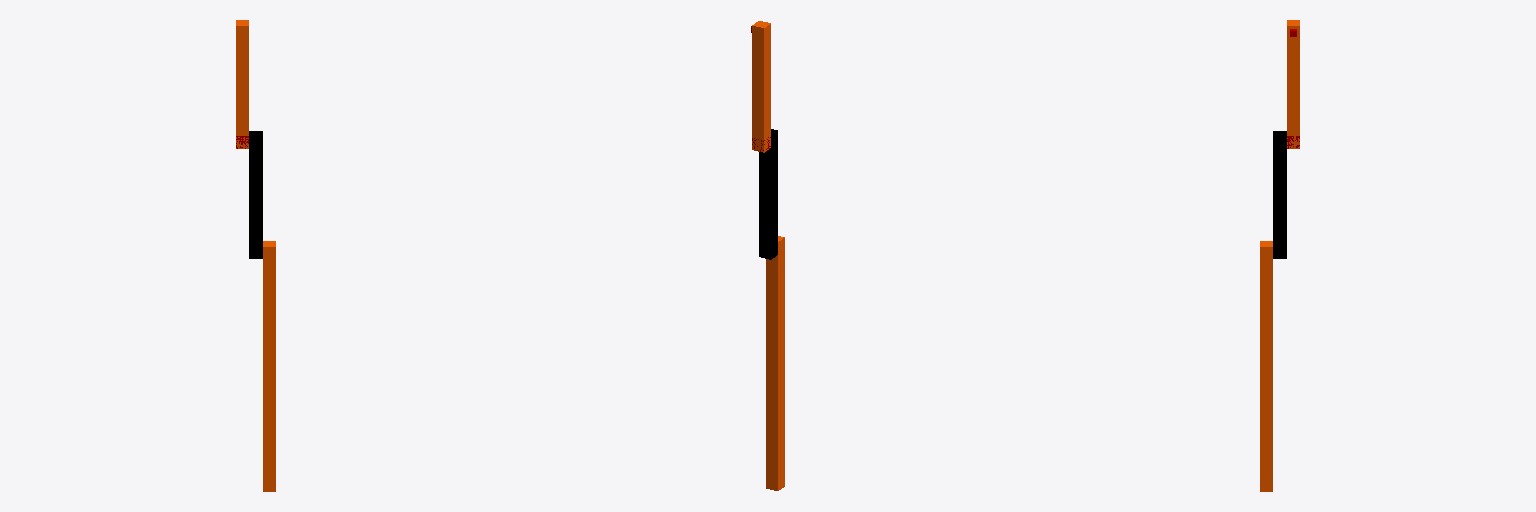
URDF robot description (rrbot):
<?xml version="1.0" ?>
<!-- =================================================================================== -->
<!-- |    This document was autogenerated by xacro from rrbot.xacro                    | -->
<!-- |    EDITING THIS FILE BY HAND IS NOT RECOMMENDED                                 | -->
<!-- =================================================================================== -->
<!-- Revolute-Revolute Manipulator -->
<robot name="rrbot">
  <!-- Space btw top of beam and the each joint -->
  <!-- ros_control plugin -->
  <gazebo>
    <plugin filename="libgazebo_ros_control.so" name="gazebo_ros_control">
      <robotNamespace>/rrbot</robotNamespace>
      <robotSimType>gazebo_ros_control/DefaultRobotHWSim</robotSimType>
    </plugin>
  </gazebo>
  <!-- Link1 -->
  <gazebo reference="link1">
    <material>Gazebo/Orange</material>
  </gazebo>
  <!-- Link2 -->
  <gazebo reference="link2">
    <mu1>0.2</mu1>
    <mu2>0.2</mu2>
    <material>Gazebo/Black</material>
  </gazebo>
  <!-- Link3 -->
  <gazebo reference="link3">
    <mu1>0.2</mu1>
    <mu2>0.2</mu2>
    <material>Gazebo/Orange</material>
  </gazebo>
  <!-- camera_link -->
  <gazebo reference="camera_link">
    <mu1>0.2</mu1>
    <mu2>0.2</mu2>
    <material>Gazebo/Red</material>
  </gazebo>
  <!-- hokuyo -->
  <gazebo reference="hokuyo_link">
    <sensor name="head_hokuyo_sensor" type="gpu_ray">
      <pose>0 0 0 0 0 0</pose>
      <visualize>false</visualize>
      <update_rate>40</update_rate>
      <ray>
        <scan>
          <horizontal>
            <samples>720</samples>
            <resolution>1</resolution>
            <min_angle>-1.570796</min_angle>
            <max_angle>1.570796</max_angle>
          </horizontal>
        </scan>
        <range>
          <min>0.10</min>
          <max>30.0</max>
          <resolution>0.01</resolution>
        </range>
        <noise>
          <type>gaussian</type>
          <!-- Noise parameters based on published spec for Hokuyo laser
               achieving "+-30mm" accuracy at range < 10m.  A mean of 0.0m and
               stddev of 0.01m will put 99.7% of samples within 0.03m of the true
               reading. -->
          <mean>0.0</mean>
          <stddev>0.01</stddev>
        </noise>
      </ray>
      <plugin filename="libgazebo_ros_gpu_laser.so" name="gazebo_ros_head_hokuyo_controller">
        <topicName>/rrbot/laser/scan</topicName>
        <frameName>hokuyo_link</frameName>
      </plugin>
    </sensor>
  </gazebo>
  <!-- camera -->
  <gazebo reference="camera_link">
    <sensor name="camera1" type="camera">
      <update_rate>30.0</update_rate>
      <camera name="head">
        <horizontal_fov>1.3962634</horizontal_fov>
        <image>
          <width>800</width>
          <height>800</height>
          <format>R8G8B8</format>
        </image>
        <clip>
          <near>0.02</near>
          <far>300</far>
        </clip>
        <noise>
          <type>gaussian</type>
          <!-- Noise is sampled independently per pixel on each frame.
               That pixel's noise value is added to each of its color
               channels, which at that point lie in the range [0,1]. -->
          <mean>0.0</mean>
          <stddev>0.007</stddev>
        </noise>
      </camera>
      <plugin filename="libgazebo_ros_camera.so" name="camera_controller">
        <alwaysOn>true</alwaysOn>
        <updateRate>0.0</updateRate>
        <cameraName>rrbot/camera1</cameraName>
        <imageTopicName>image_raw</imageTopicName>
        <cameraInfoTopicName>camera_info</cameraInfoTopicName>
        <frameName>camera_link_optical</frameName>
        <!-- setting hackBaseline to anything but 0.0 will cause a misalignment
            between the gazebo sensor image and the frame it is supposed to
            be attached to -->
        <hackBaseline>0.0</hackBaseline>
        <distortionK1>0.0</distortionK1>
        <distortionK2>0.0</distortionK2>
        <distortionK3>0.0</distortionK3>
        <distortionT1>0.0</distortionT1>
        <distortionT2>0.0</distortionT2>
        <CxPrime>0</CxPrime>
        <Cx>0.0</Cx>
        <Cy>0.0</Cy>
        <focalLength>0.0</focalLength>
      </plugin>
    </sensor>
  </gazebo>
  <gazebo reference="imu_link">
    <sensor name="br_imu" type="imu">
      <always_on>true</always_on>
      <update_rate>100</update_rate>
      <imu>
        <angular_velocity>
          <x>
            <noise type="gaussian">
              <mean>0.0</mean>
              <stddev>2e-4</stddev>
            </noise>
          </x>
          <y>
            <noise type="gaussian">
              <mean>0.0</mean>
              <stddev>2e-4</stddev>
            </noise>
          </y>
          <z>
            <noise type="gaussian">
              <mean>0.0</mean>
              <stddev>2e-4</stddev>
            </noise>
          </z>
        </angular_velocity>
        <linear_acceleration>
          <x>
            <noise type="gaussian">
              <mean>0.0</mean>
              <stddev>1.7e-2</stddev>
            </noise>
          </x>
          <y>
            <noise type="gaussian">
              <mean>0.0</mean>
              <stddev>1.7e-2</stddev>
            </noise>
          </y>
          <z>
            <noise type="gaussian">
              <mean>0.0</mean>
              <stddev>1.7e-2</stddev>
            </noise>
          </z>
        </linear_acceleration>
      </imu>
      <plugin filename="libgazebo_ros_imu_sensor.so" name="bytes_imu">
        <ros>
          <namespace>imu</namespace>
          <remapping>~/out:=data</remapping>
        </ros>
        <initial_orientation_as_reference>false</initial_orientation_as_reference>
      </plugin>
    </sensor>
  </gazebo>
  <material name="black">
    <color rgba="0.0 0.0 0.0 1.0"/>
  </material>
  <material name="blue">
    <color rgba="0.0 0.0 0.8 1.0"/>
  </material>
  <material name="green">
    <color rgba="0.0 0.8 0.0 1.0"/>
  </material>
  <material name="grey">
    <color rgba="0.2 0.2 0.2 1.0"/>
  </material>
  <material name="orange">
    <color rgba="1.0 0.4235294117647059 0.0392156862745098 1.0"/>
  </material>
  <material name="brown">
    <color rgba="0.8705882352941177 0.8117647058823529 0.7647058823529411 1.0"/>
  </material>
  <material name="red">
    <color rgba="0.8 0.0 0.0 1.0"/>
  </material>
  <material name="white">
    <color rgba="1.0 1.0 1.0 1.0"/>
  </material>
  <!-- Used for fixing robot to Gazebo 'base_link' -->
  <link name="world"/>
  <joint name="fixed" type="fixed">
    <parent link="world"/>
    <child link="link1"/>
  </joint>
  <!-- Base Link -->
  <link name="link1">
    <collision>
      <origin rpy="0 0 0" xyz="0 0 1.0"/>
      <geometry>
        <box size="0.1 0.1 2"/>
      </geometry>
    </collision>
    <visual>
      <origin rpy="0 0 0" xyz="0 0 1.0"/>
      <geometry>
        <box size="0.1 0.1 2"/>
      </geometry>
      <material name="orange"/>
    </visual>
    <inertial>
      <origin rpy="0 0 0" xyz="0 0 1.0"/>
      <mass value="1"/>
      <inertia ixx="0.3341666666666666" ixy="0.0" ixz="0.0" iyy="0.3341666666666666" iyz="0.0" izz="0.001666666666666667"/>
    </inertial>
  </link>
  <joint name="joint1" type="continuous">
    <parent link="link1"/>
    <child link="link2"/>
    <origin rpy="0 0 0" xyz="0 0.1 1.95"/>
    <axis xyz="0 1 0"/>
    <dynamics damping="0.7"/>
  </joint>
  <!-- Middle Link -->
  <link name="link2">
    <collision>
      <origin rpy="0 0 0" xyz="0 0 0.45"/>
      <geometry>
        <box size="0.1 0.1 1"/>
      </geometry>
    </collision>
    <visual>
      <origin rpy="0 0 0" xyz="0 0 0.45"/>
      <geometry>
        <box size="0.1 0.1 1"/>
      </geometry>
      <material name="black"/>
    </visual>
    <inertial>
      <origin rpy="0 0 0" xyz="0 0 0.45"/>
      <mass value="1"/>
      <inertia ixx="0.08416666666666667" ixy="0.0" ixz="0.0" iyy="0.08416666666666667" iyz="0.0" izz="0.001666666666666667"/>
    </inertial>
  </link>
  <joint name="joint2" type="continuous">
    <parent link="link2"/>
    <child link="link3"/>
    <origin rpy="0 0 0" xyz="0 0.1 0.9"/>
    <axis xyz="0 1 0"/>
    <dynamics damping="0.7"/>
  </joint>
  <!-- Top Link -->
  <link name="link3">
    <collision>
      <origin rpy="0 0 0" xyz="0 0 0.45"/>
      <geometry>
        <box size="0.1 0.1 1"/>
      </geometry>
    </collision>
    <visual>
      <origin rpy="0 0 0" xyz="0 0 0.45"/>
      <geometry>
        <box size="0.1 0.1 1"/>
      </geometry>
      <material name="orange"/>
    </visual>
    <inertial>
      <origin rpy="0 0 0" xyz="0 0 0.45"/>
      <mass value="1"/>
      <inertia ixx="0.08416666666666667" ixy="0.0" ixz="0.0" iyy="0.08416666666666667" iyz="0.0" izz="0.001666666666666667"/>
    </inertial>
  </link>
  <joint name="hokuyo_joint" type="fixed">
    <axis xyz="0 1 0"/>
    <origin rpy="0 0 0" xyz="0 0 0.975"/>
    <parent link="link3"/>
    <child link="hokuyo_link"/>
  </joint>
  <!-- Hokuyo Laser -->
  <link name="hokuyo_link">
    <collision>
      <origin rpy="0 0 0" xyz="0 0 0"/>
      <geometry>
        <box size="0.1 0.1 0.1"/>
      </geometry>
    </collision>
    <visual>
      <origin rpy="0 0 0" xyz="0 0 0"/>
      <geometry>
        <mesh filename="file://meshes/hokuyo.dae"/>
      </geometry>
    </visual>
    <inertial>
      <mass value="1e-5"/>
      <origin rpy="0 0 0" xyz="0 0 0"/>
      <inertia ixx="1e-6" ixy="0" ixz="0" iyy="1e-6" iyz="0" izz="1e-6"/>
    </inertial>
  </link>
  <link name="imu_link">
    <collision>
      <origin rpy="0 0 0" xyz="0 0 0"/>
      <geometry>
        <box size="0.1 0.1 0.1"/>
      </geometry>
    </collision>
    <visual>
      <origin rpy="0 0 0" xyz="0 0 0"/>
      <geometry>
        <box size="0.1 0.1 0.1"/>
      </geometry>
      <material name="red"/>
    </visual>
    <inertial>
      <mass value="1e-5"/>
      <origin rpy="0 0 0" xyz="0 0 0"/>
      <inertia ixx="1e-6" ixy="0" ixz="0" iyy="1e-6" iyz="0" izz="1e-6"/>
    </inertial>
  </link>
  <joint name="imu_link_join" type="fixed">
    <parent link="link3"/>
    <child link="imu_link"/>
  </joint>
  <joint name="camera_joint" type="fixed">
    <axis xyz="0 1 0"/>
    <origin rpy="0 0 0" xyz="0.05 0 0.9"/>
    <parent link="link3"/>
    <child link="camera_link"/>
  </joint>
  <!-- Camera -->
  <link name="camera_link">
    <collision>
      <origin rpy="0 0 0" xyz="0 0 0"/>
      <geometry>
        <box size="0.05 0.05 0.05"/>
      </geometry>
    </collision>
    <visual>
      <origin rpy="0 0 0" xyz="0 0 0"/>
      <geometry>
        <box size="0.05 0.05 0.05"/>
      </geometry>
      <material name="red"/>
    </visual>
    <inertial>
      <mass value="1e-5"/>
      <origin rpy="0 0 0" xyz="0 0 0"/>
      <inertia ixx="1e-6" ixy="0" ixz="0" iyy="1e-6" iyz="0" izz="1e-6"/>
    </inertial>
  </link>
  <!-- generate an optical frame http://www.ros.org/reps/rep-0103.html#suffix-frames
      so that ros and opencv can operate on the camera frame correctly -->
  <joint name="camera_optical_joint" type="fixed">
    <!-- these values have to be these values otherwise the gazebo camera image
        won't be aligned properly with the frame it is supposedly originating from -->
    <origin rpy="-1.5707963267948966 0 -1.5707963267948966" xyz="0 0 0"/>
    <parent link="camera_link"/>
    <child link="camera_link_optical"/>
  </joint>
  <link name="camera_link_optical">
  </link>
  <!-- ros2 control specific -->
  <ros2_control name="GazeboSystem" type="system">
    <hardware>
      <plugin>gazebo_ros2_control/GazeboSystem</plugin>
    </hardware>
    <joint name="joint1">
      <command_interface name="position"/>
      <state_interface name="position"/>
    </joint>
    <joint name="joint2">
      <command_interface name="position"/>
      <state_interface name="position"/>
    </joint>
  </ros2_control>
  <gazebo>
    <plugin filename="libgazebo_ros2_control.so" name="gazebo_ros2_control">
      <parameters>[local-path]/dev_ws/install/rrbot_control/share/rrbot_control/config/controller_configuration.yaml</parameters>
    </plugin>
  </gazebo>
</robot>

--- Render facts (derived) ---
The picture shows the robot from 3 angles, left to right: view 1: azimuth 90°, elevation 25°; view 2: azimuth 150°, elevation 25°; view 3: azimuth 270°, elevation 25°; orthographic projection.
Model rrbot with 8 links and 7 joints (2 continuous, 5 fixed), rooted at world, posed every joint at zero.
Visible links, largest first — view 1: link1, link2, link3; view 2: link1, link3, link2; view 3: link1, link2, link3.
Boxes of the visible links, box(x1,y1,x2,y2) form: link1: box(263, 241, 275, 491); link2: box(249, 131, 262, 258); link3: box(236, 20, 248, 148); link1: box(766, 236, 784, 490); link3: box(752, 21, 770, 152); link2: box(759, 129, 777, 259); link1: box(1260, 241, 1272, 491); link2: box(1273, 131, 1286, 258); link3: box(1287, 20, 1299, 148).
Size in the robot's own frame: 0.125 by 0.3 by 3.8 metres.
Geometry: only primitive shapes (box / cylinder / sphere) drawn; not drawn: 1 mesh visual (reference in a form the renderer does not follow).
